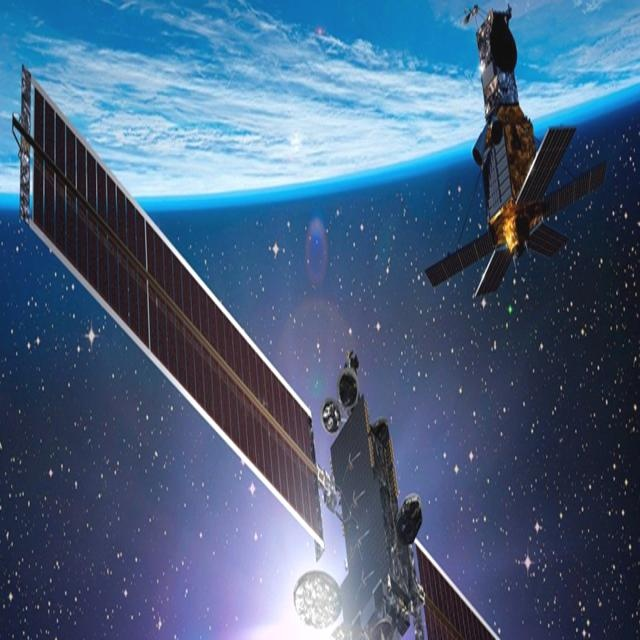medium_debris: (11, 79, 497, 635), (414, 5, 606, 312)
